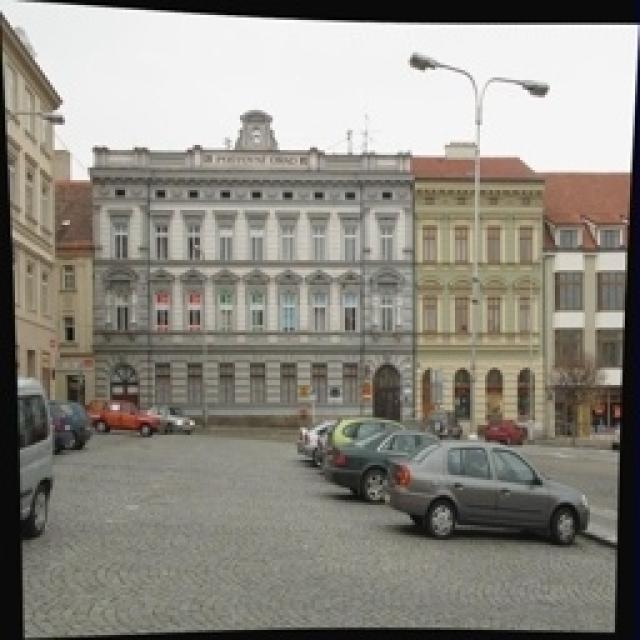building: (90, 143, 418, 445), (418, 138, 630, 438)
